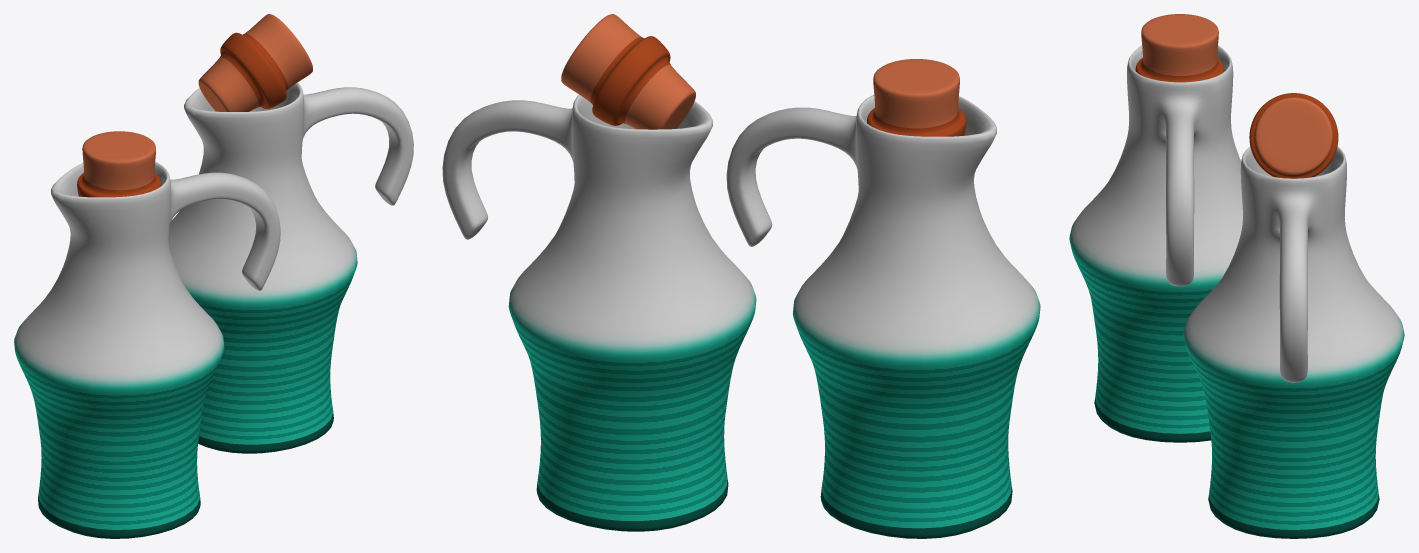
Rendered from obj_ceramics_2ef355.glb.
3 renders of one model, left to right at view 1: azimuth 30°, elevation 25°; view 2: azimuth 150°, elevation 25°; view 3: azimuth 270°, elevation 25°, orthographic. The views are drawn at different scales.
Parts seen in each view (by area): view 1: obj_ceramics_2ef355; view 2: obj_ceramics_2ef355; view 3: obj_ceramics_2ef355.
Boxes of the visible parts, <box> form: obj_ceramics_2ef355: <box>14,14,413,538</box>; obj_ceramics_2ef355: <box>442,14,1040,538</box>; obj_ceramics_2ef355: <box>1069,14,1404,538</box>.
Size of the model in its own units: 0.1143 by 0.1 by 0.0722.
2 materials, 2 textured.
